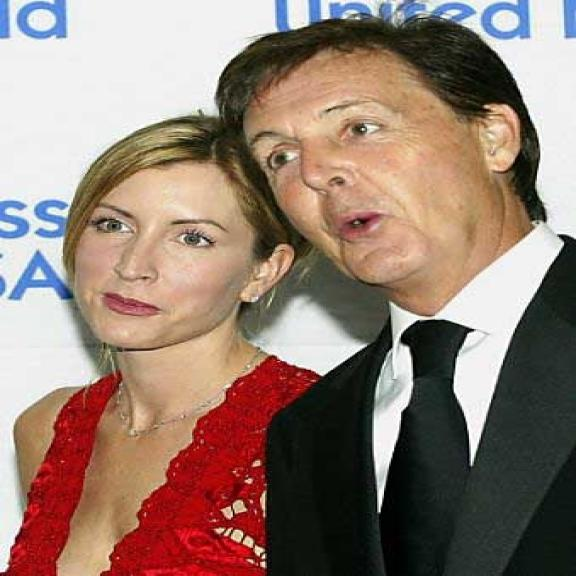face: (227, 58, 514, 290), (70, 159, 292, 347)
